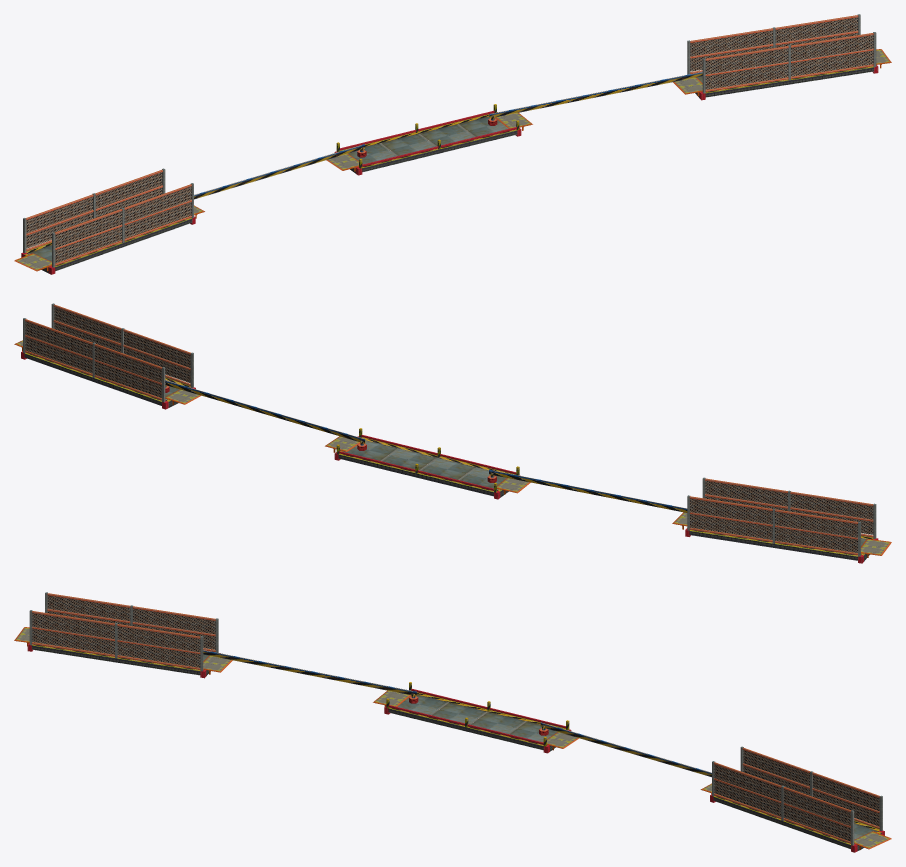
Rendered from Mad_express4.obj.
3 views of the same model, one above another, from view 1: azimuth 30°, elevation 25°; view 2: azimuth 150°, elevation 25°; view 3: azimuth 330°, elevation 25° (orthographic).
Visible parts, largest first — view 1: obj2, obj1, Object_2; view 2: obj2, obj1, Object_2; view 3: obj2, obj1, Object_2.
Boxes of the visible parts, <box> form: obj2: <box>26,17,873,263</box>; obj1: <box>14,49,891,274</box>; Object_2: <box>23,14,876,267</box>; obj2: <box>25,307,873,552</box>; obj1: <box>14,340,891,563</box>; Object_2: <box>23,303,876,556</box>; obj2: <box>32,595,879,841</box>; obj1: <box>14,627,891,852</box>; Object_2: <box>29,592,882,845</box>.
Size of the model in its own units: 2126 by 95 by 207.
